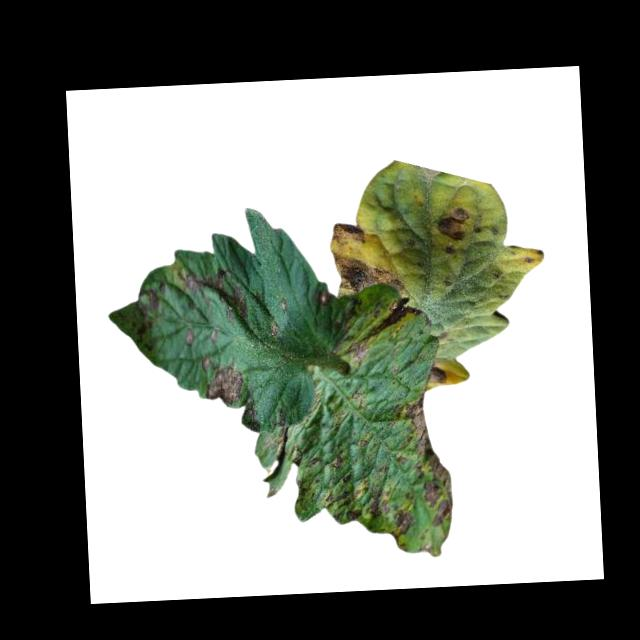Early_blight: (402, 392, 453, 527), (342, 297, 425, 365), (177, 264, 247, 324), (332, 247, 404, 298), (322, 472, 391, 524), (200, 352, 243, 407), (435, 208, 480, 243), (329, 222, 365, 249), (144, 282, 168, 318), (390, 509, 411, 541), (425, 364, 448, 384), (181, 327, 196, 348), (317, 287, 331, 306), (332, 455, 346, 470), (443, 243, 458, 257)
